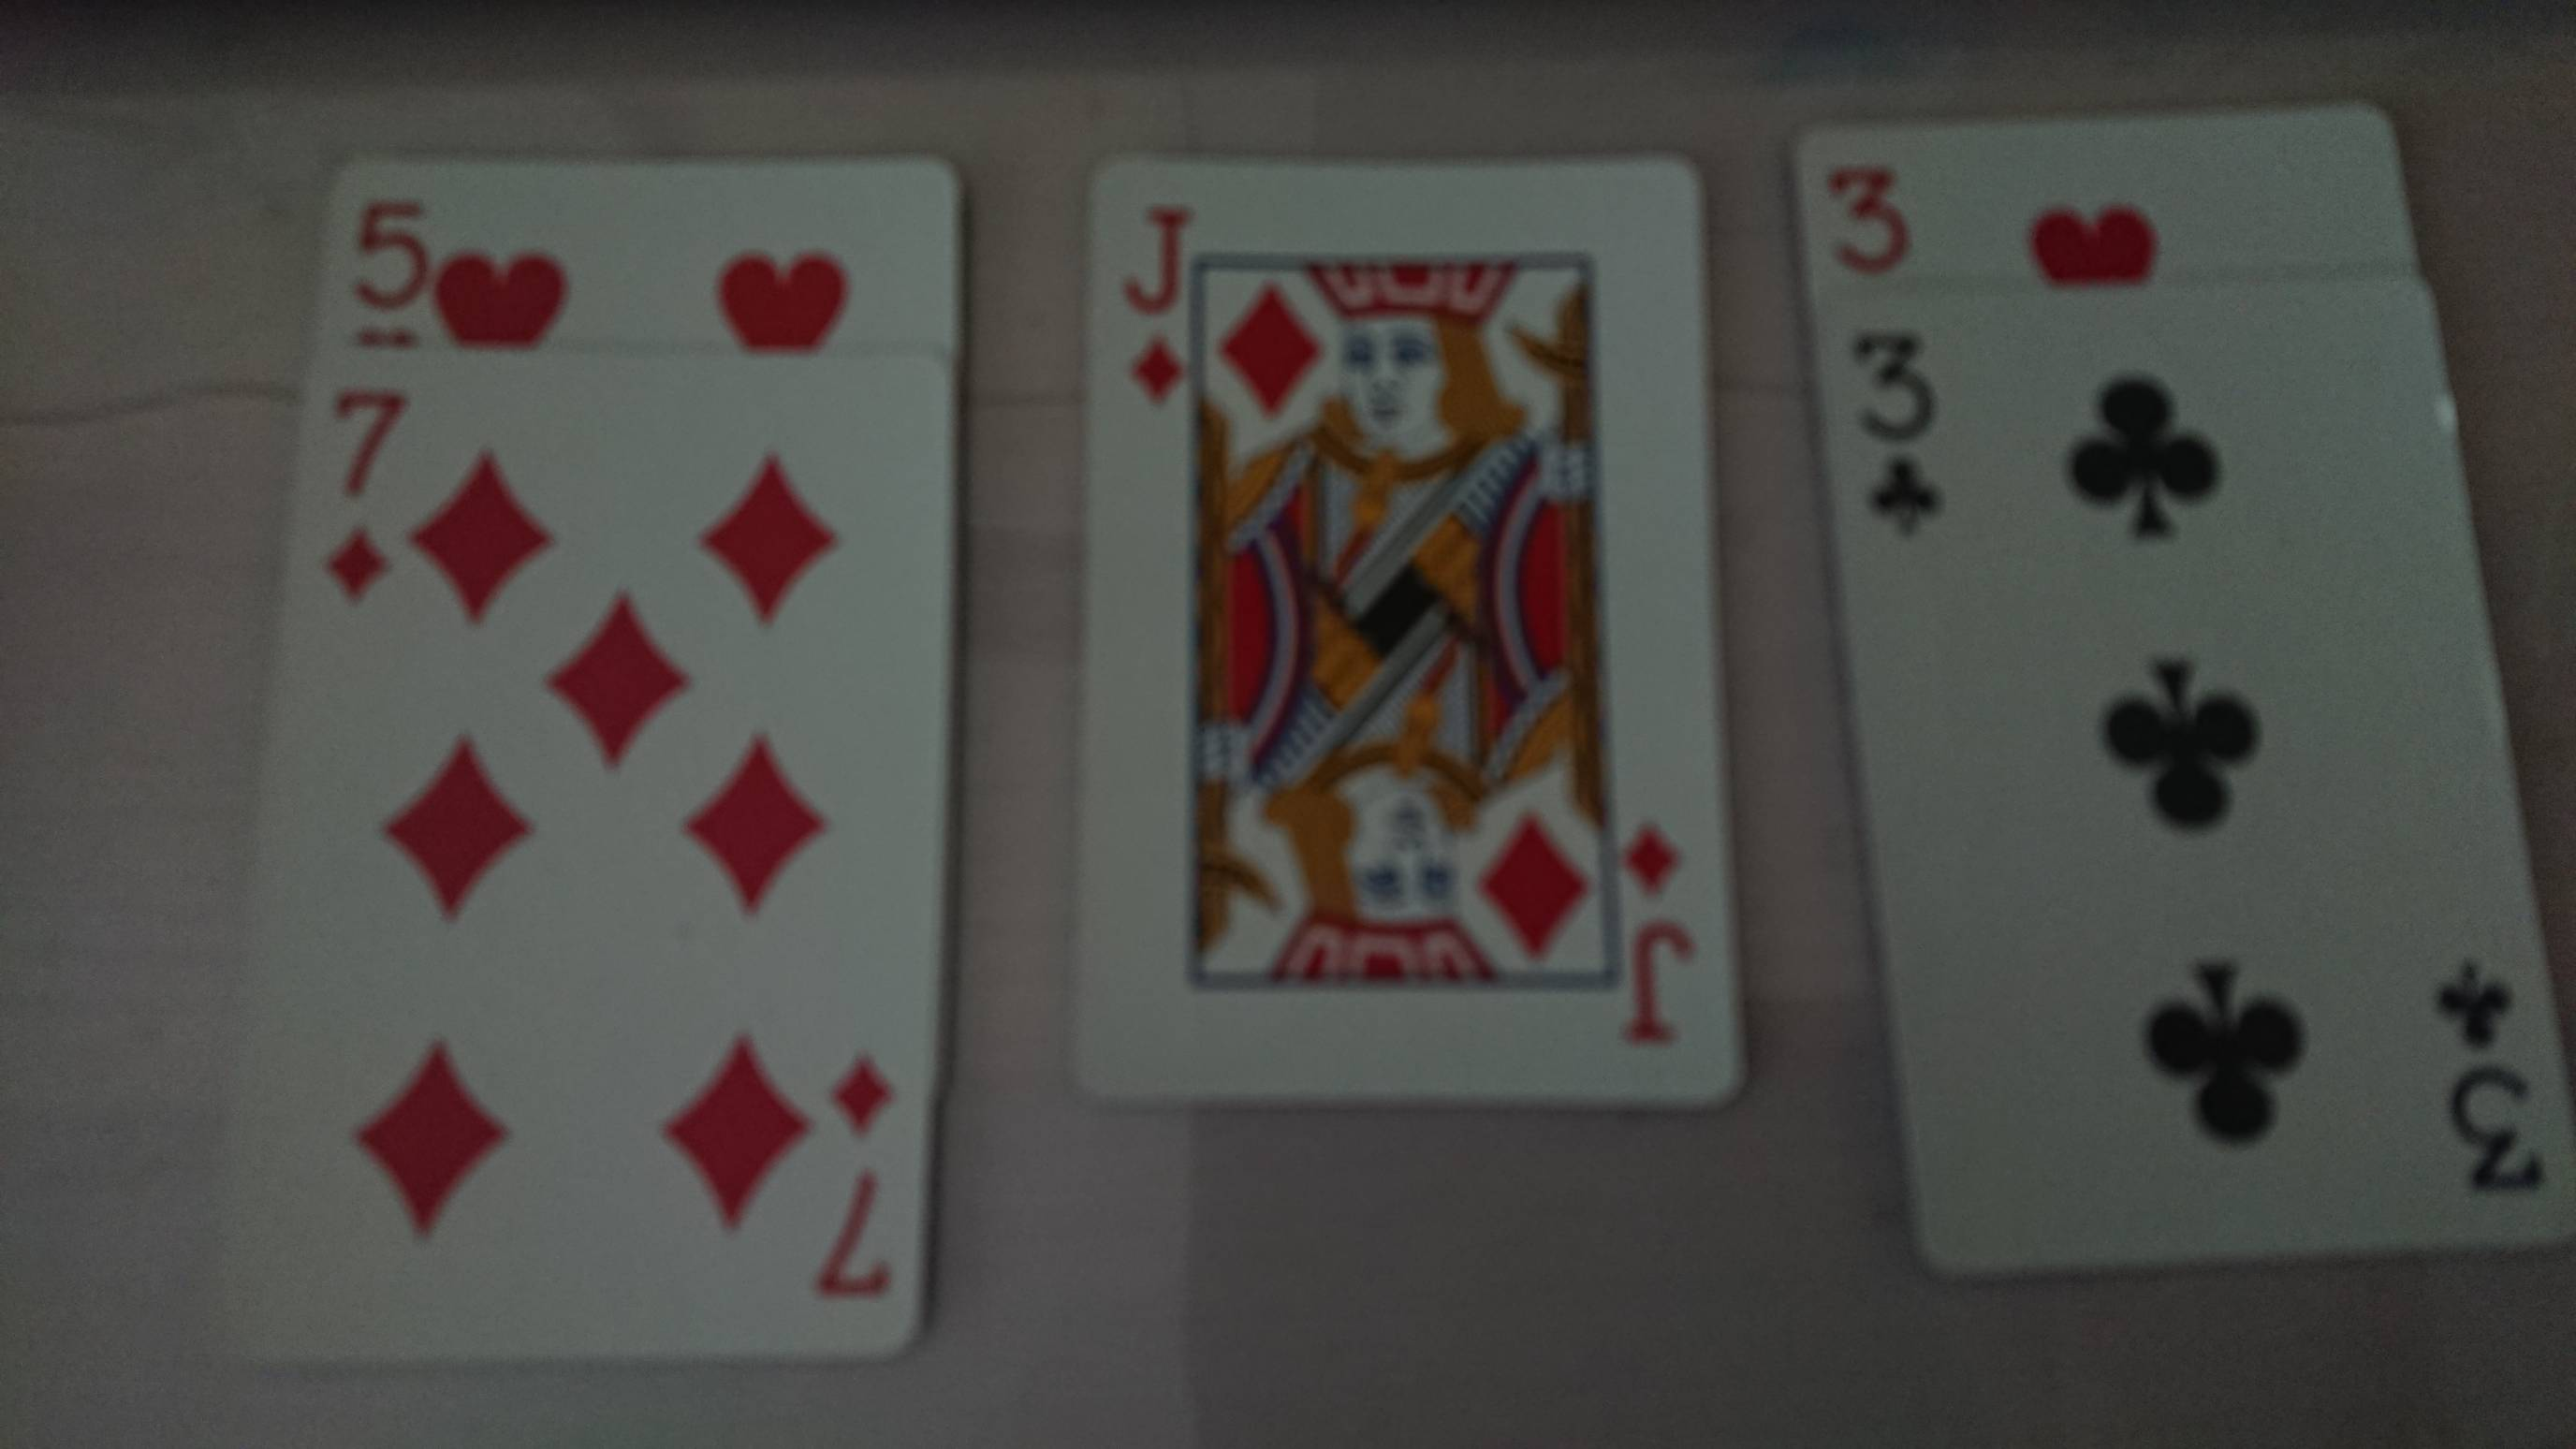3C: (1840, 327, 1959, 545)
5H: (349, 195, 430, 347)
7D: (317, 382, 410, 607)
JD: (1109, 196, 1205, 410)
